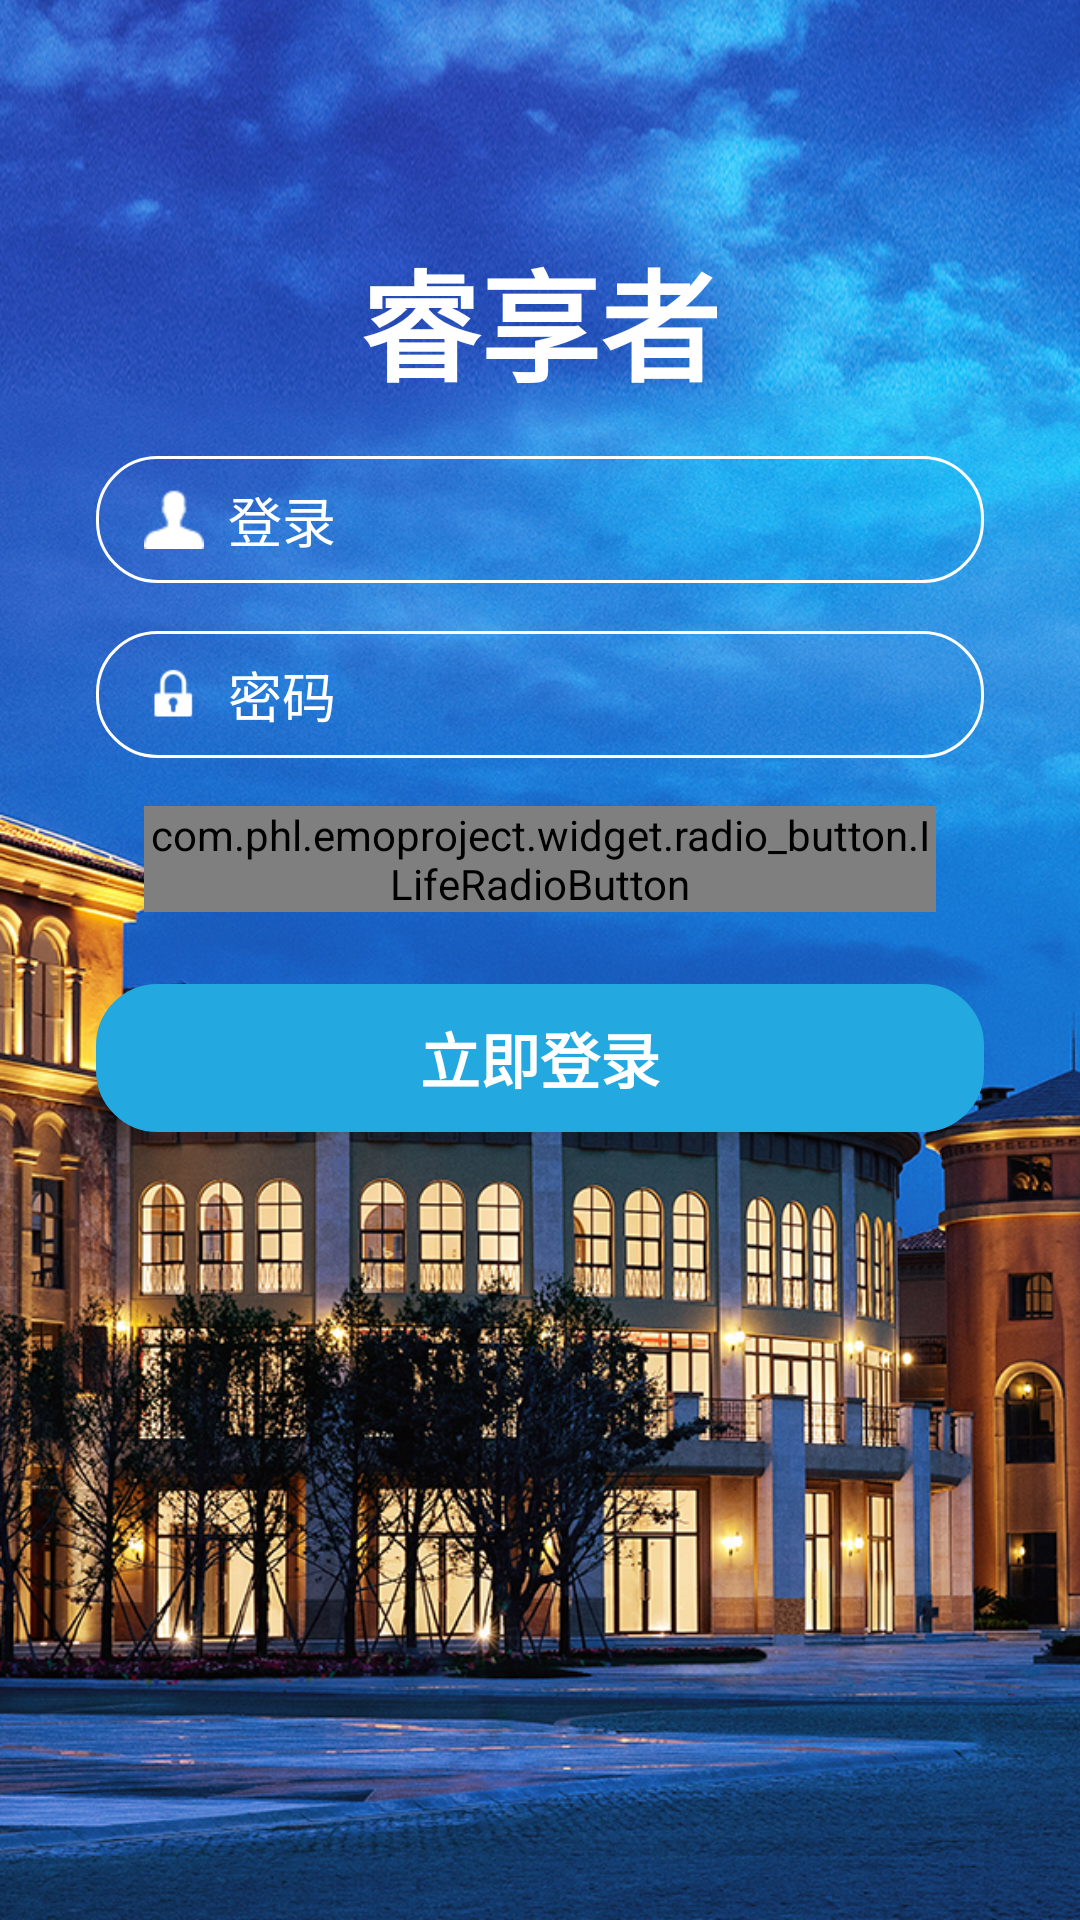

Named icons in this screenshot (1080 × 1920) and their bounding boxes, (x1, y1, x2, y2):
lock: (154, 669, 193, 717)
people: (144, 490, 204, 549)
